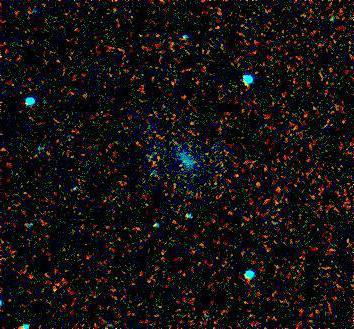star: (243, 169, 273, 199)
